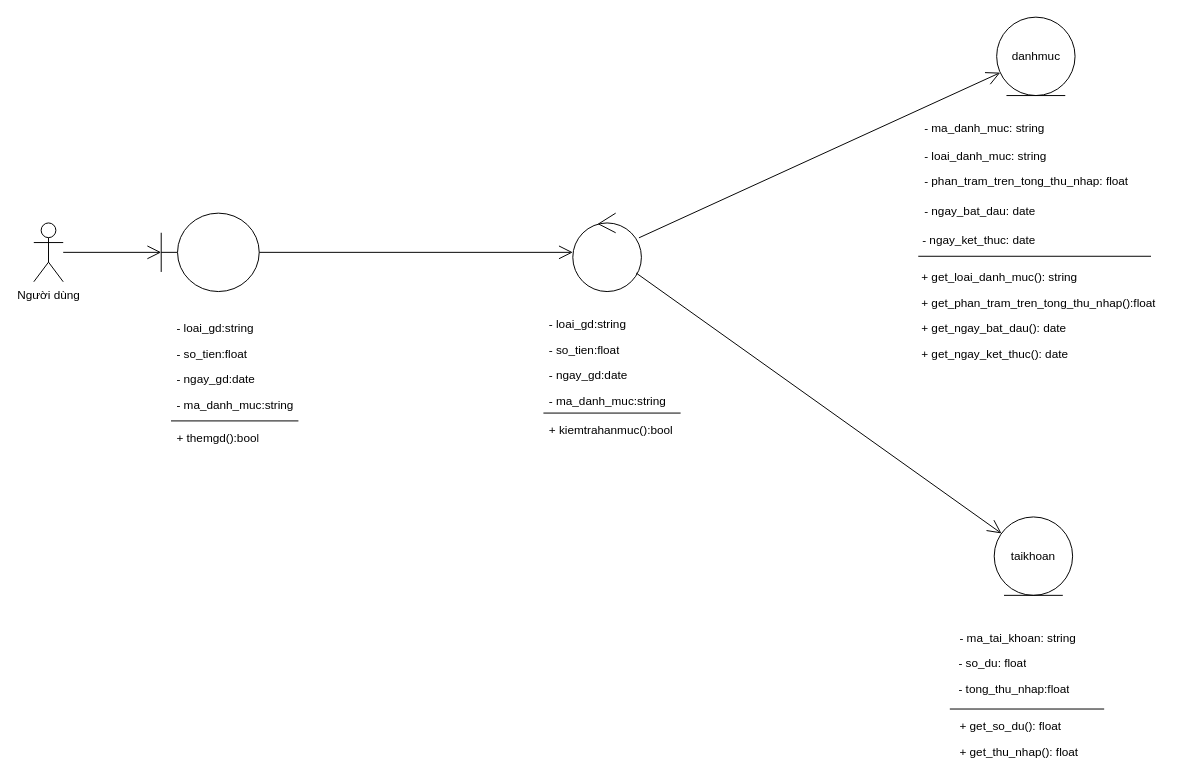
Image size: 1177x784. Some labels were removed from this diagram. The centre of each missing label's shape, as x and y in pixels:
"ctrlCanhBao" goes at (x=606, y=252).
"frmThemGiao Dich" goes at (x=209, y=252).
